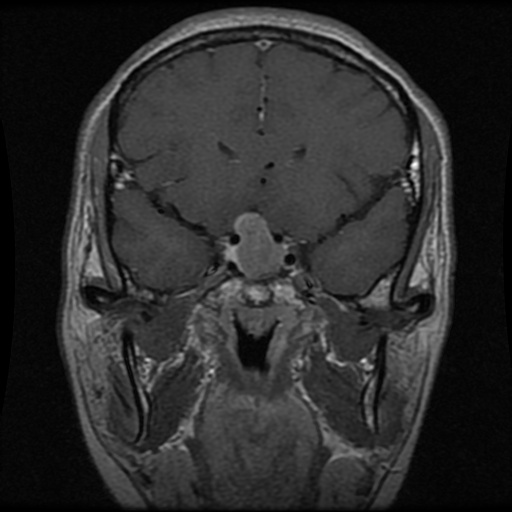pituitary: (222, 212, 289, 281)
